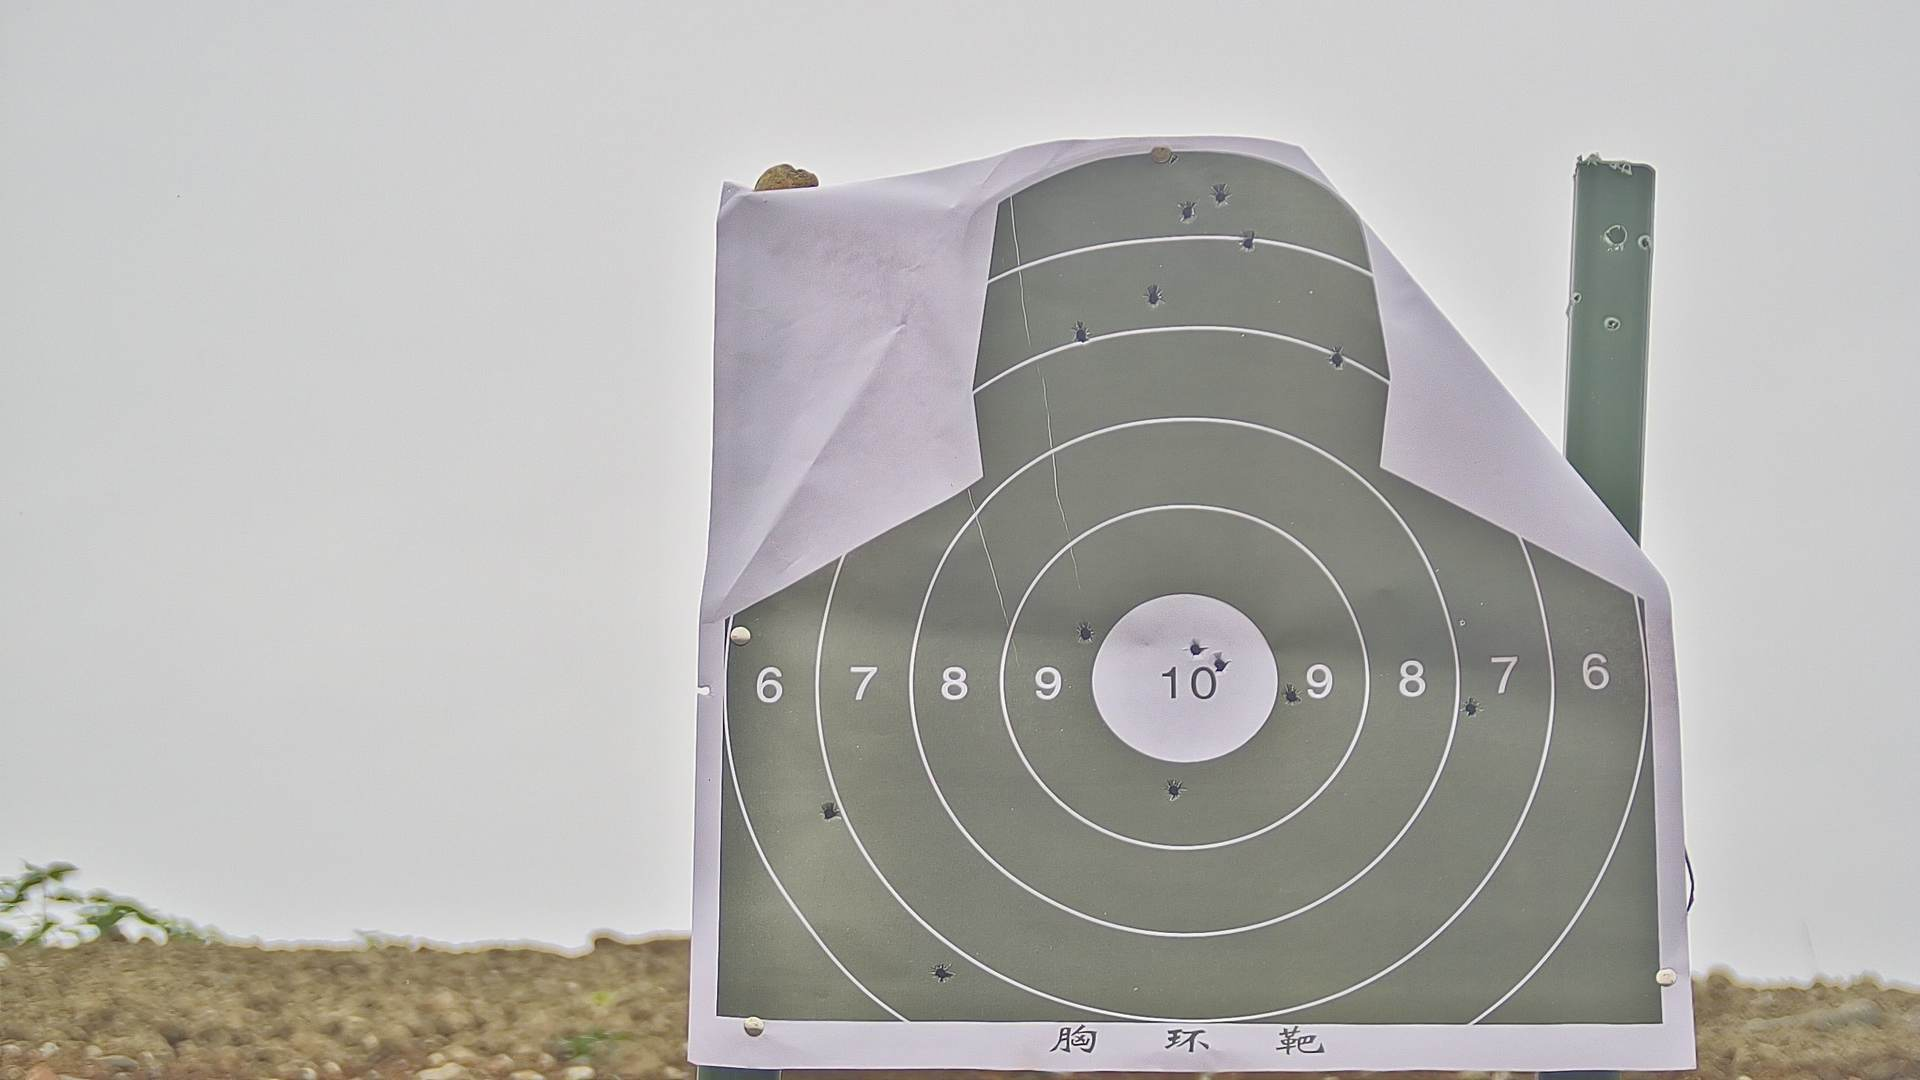hole: (934, 964, 951, 982), (1164, 781, 1182, 799), (820, 803, 837, 819), (1215, 187, 1229, 204), (1465, 698, 1478, 716), (1182, 204, 1196, 220), (1077, 626, 1092, 641), (1073, 326, 1087, 342), (1284, 686, 1298, 702), (1213, 655, 1226, 670), (1242, 236, 1254, 251), (1331, 351, 1342, 365), (1149, 287, 1158, 305), (1189, 642, 1201, 653)
kernel: (1180, 680, 1182, 686)
target: (721, 161, 1663, 1019)
ten: (1088, 596, 1288, 764)
